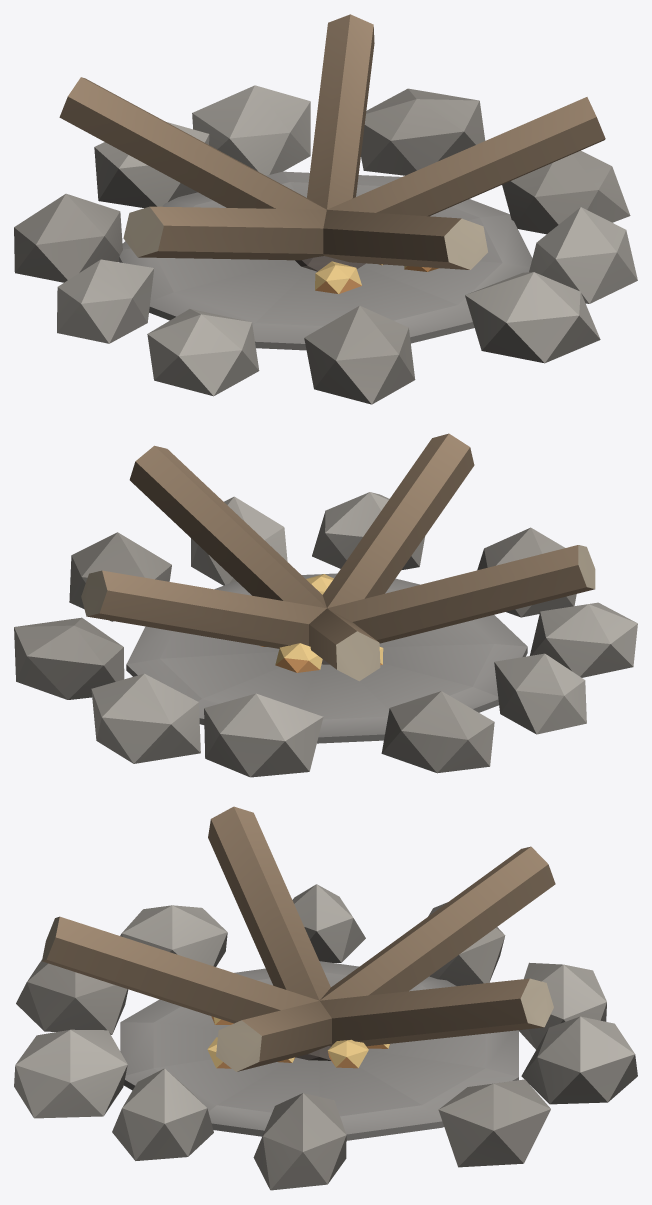
The model's file is campfire_low.glb.
3 views of the same model, one above another, from view 1: azimuth 30°, elevation 25°; view 2: azimuth 150°, elevation 25°; view 3: azimuth 270°, elevation 25° (orthographic). The views are drawn at different scales.
Visible parts, largest first — view 1: campfire; view 2: campfire; view 3: campfire.
Boxes of the visible parts, x1,y1,x2,y2 form: campfire: [14, 14, 637, 404]; campfire: [14, 433, 637, 777]; campfire: [14, 806, 637, 1190].
Bounding box in the file's own units: 1.08 × 0.2712 × 1.07.
